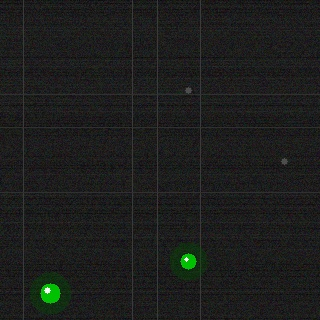green_normal: (38, 281, 62, 305), (178, 251, 198, 271)
